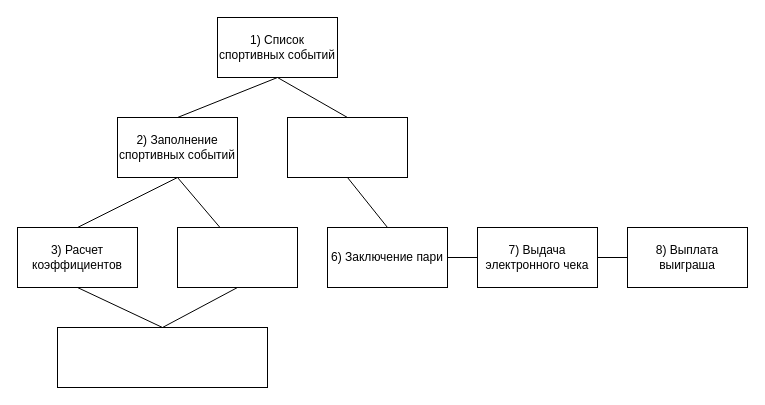
Some shapes in this 765 by 405 pixel diagram are drawn without their labels. The shapes that lost their labels are listed below. From the top down, each one's centre as x and y in pixels, then its label:
At (x=347, y=147): "5) Выбор спортивного события".
At (x=237, y=257): "4) Создание спортивного события".
At (x=162, y=357): "9) Публикация обновленного\созданного события".
